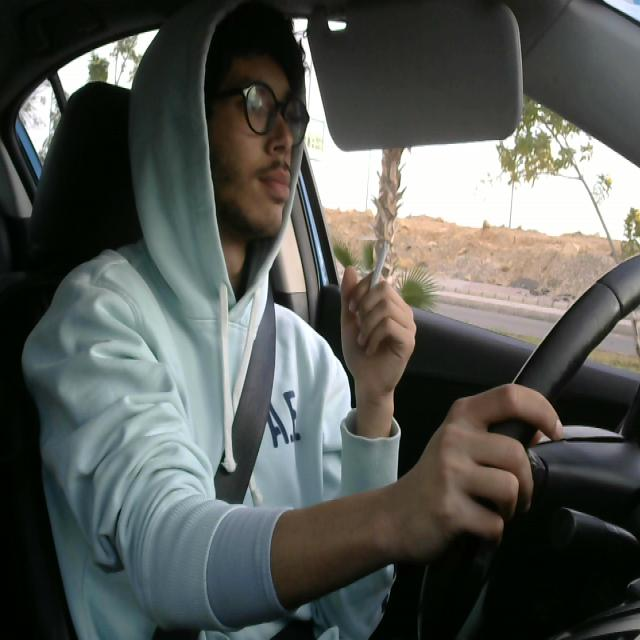smoking: (364, 234, 389, 317)
